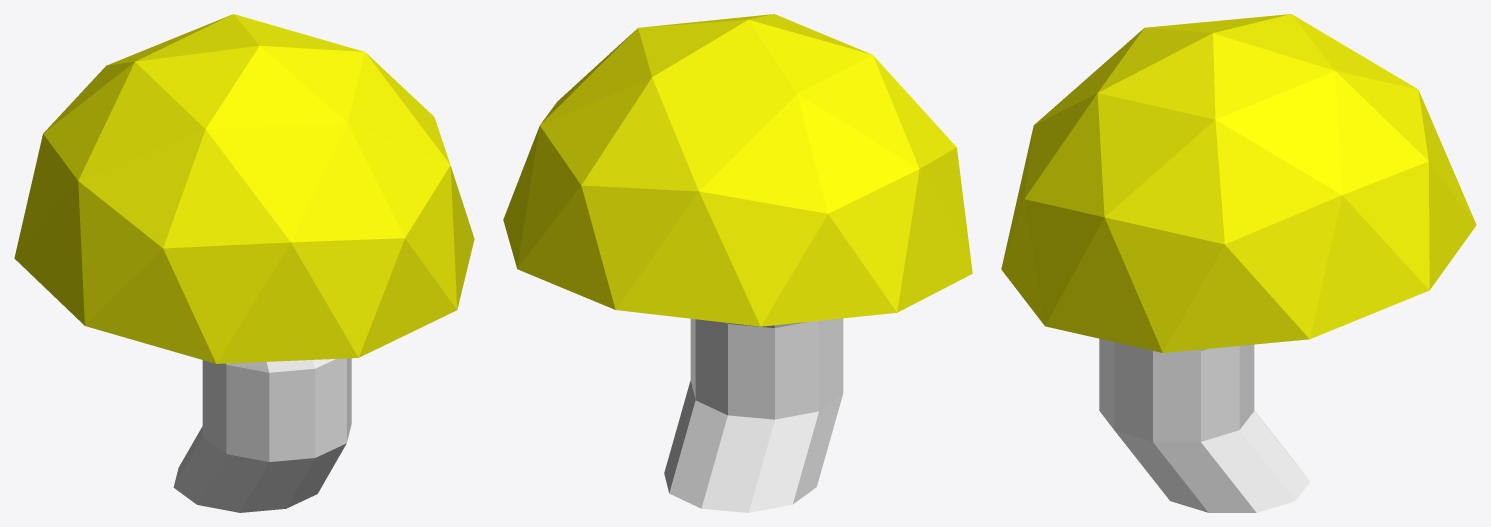
Rendered from Mushroom_1b.fbx.
The picture shows the model from 3 angles, left to right: view 1: azimuth 30°, elevation 25°; view 2: azimuth 150°, elevation 25°; view 3: azimuth 270°, elevation 25°; orthographic projection. The views are drawn at different scales.
Visible parts, largest first — view 1: Mushroom_1b; view 2: Mushroom_1b; view 3: Mushroom_1b.
Boxes of the visible parts, x1,y1,x2,y2 form: Mushroom_1b: (14, 14, 474, 512); Mushroom_1b: (503, 14, 972, 512); Mushroom_1b: (1001, 14, 1476, 512).
Bounding box in the file's own units: 37.53 × 40.77 × 39.06.
